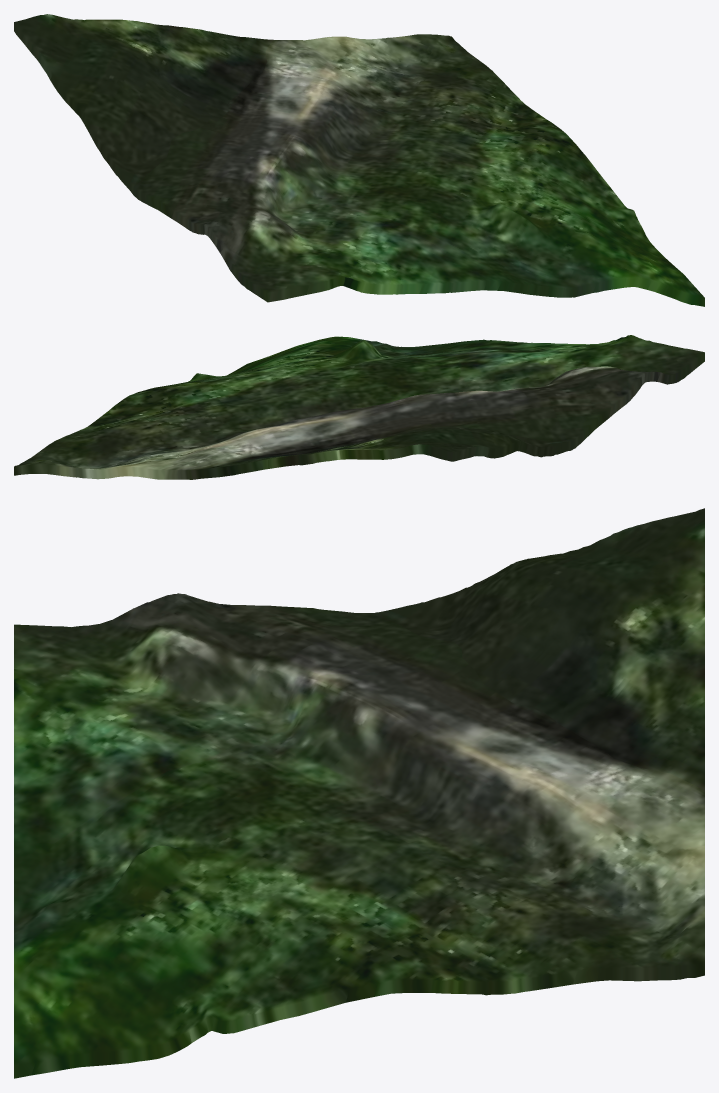
File: z20-167567-405179-h0-yup-uvflip-v3-world.glb
3 renders of one model, top to bottom at view 1: azimuth 30°, elevation 25°; view 2: azimuth 150°, elevation 25°; view 3: azimuth 270°, elevation 25°, orthographic. The views are drawn at different scales.
Bounding box in the file's own units: 30.16 × 13.6 × 30.32.
Materials: 1 (1 with a texture image).
